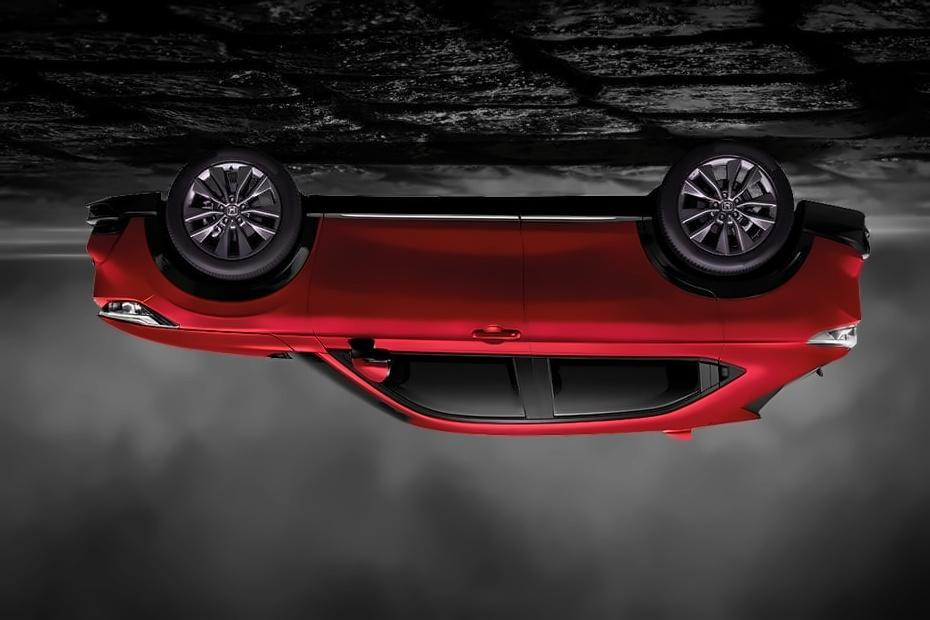Car hood: (93, 314, 301, 360)
Driver-s door - -F-R-: (309, 208, 531, 431)
Fender - -F-R-: (143, 208, 331, 358)
Fender - -R-R-: (639, 209, 830, 357)
Front bumper: (81, 186, 178, 306)
Headlight - -R-: (83, 294, 185, 337)
Passenger-s door - -R-R-: (526, 208, 725, 433)
Rear bumper: (776, 180, 878, 325)
Rear light - -R-: (799, 304, 864, 353)
Side bumper - -R-: (299, 186, 656, 232)
Side mirror - -R-: (340, 332, 401, 389)
